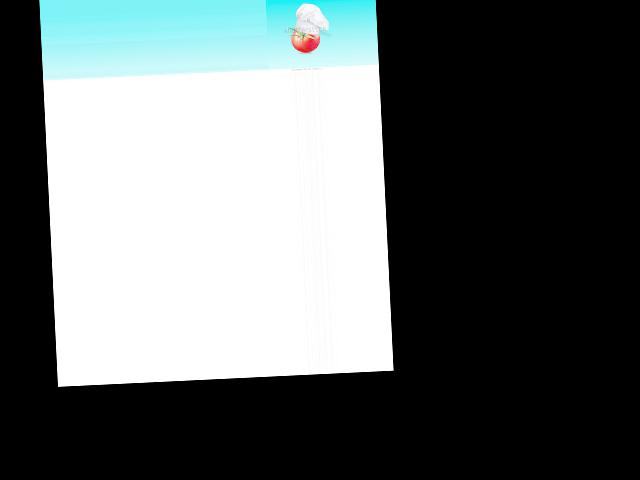tomato: (291, 27, 320, 52)
